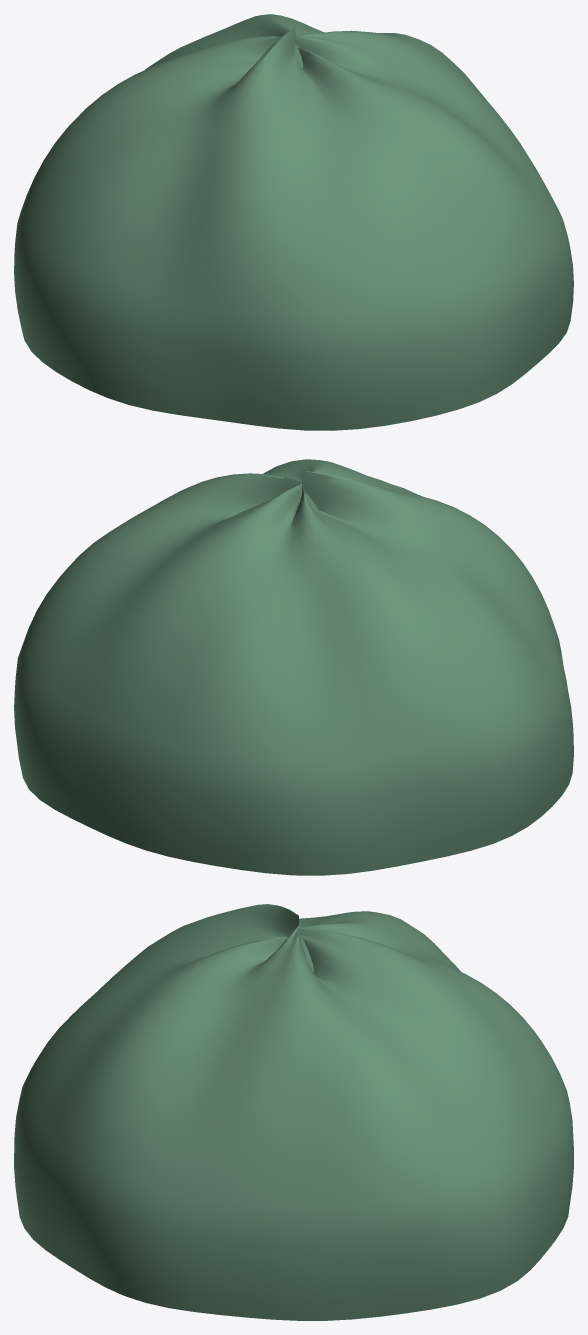
The model's file is hill_dome_b.glb.
3 renders of one model, top to bottom at view 1: azimuth 30°, elevation 25°; view 2: azimuth 150°, elevation 25°; view 3: azimuth 270°, elevation 25°, orthographic.
Parts seen in each view (by area): view 1: land; view 2: land; view 3: land.
Part boxes in pixels (x1=…): land: x1=14, y1=14, x2=573, y2=430; land: x1=14, y1=459, x2=573, y2=875; land: x1=14, y1=904, x2=573, y2=1320.
Bounding box in the file's own units: 1.92 × 1.49 × 1.91.
